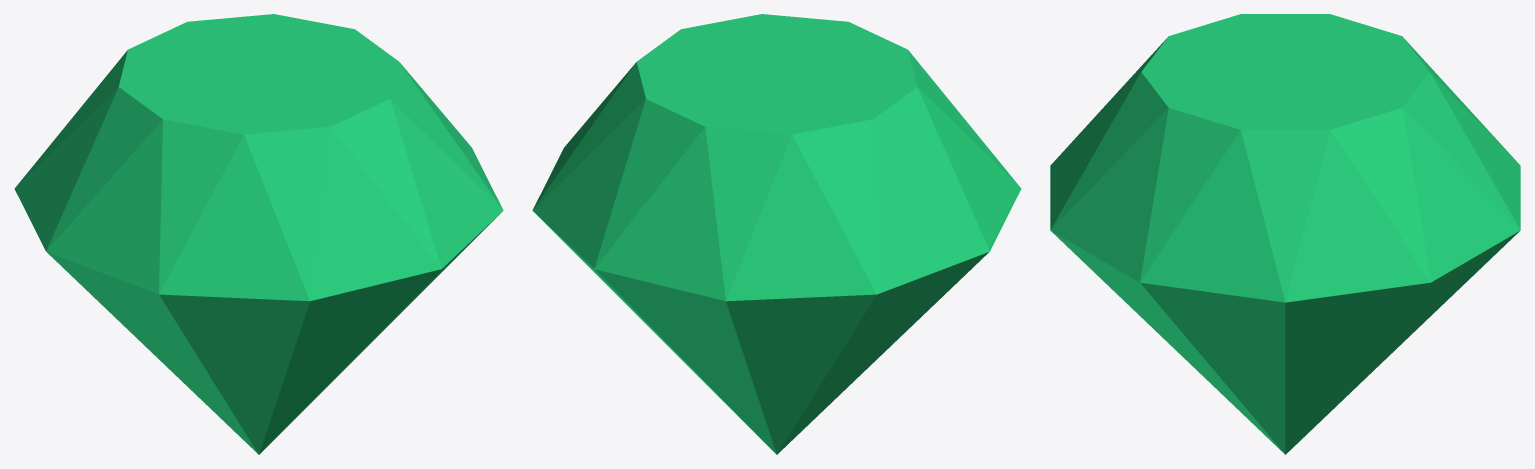
File: Gema_Legendario.fbx
3 views of the same model, side by side, from view 1: azimuth 30°, elevation 25°; view 2: azimuth 150°, elevation 25°; view 3: azimuth 270°, elevation 25° (orthographic).
Parts seen in each view (by area): view 1: Gema_Legendario; view 2: Gema_Legendario; view 3: Gema_Legendario.
Part boxes in pixels (x1=…): Gema_Legendario: x1=14, y1=14, x2=503, y2=454; Gema_Legendario: x1=532, y1=14, x2=1021, y2=454; Gema_Legendario: x1=1050, y1=14, x2=1520, y2=454.
Bounding box in the file's own units: 0.5376 × 0.4592 × 0.5113.
